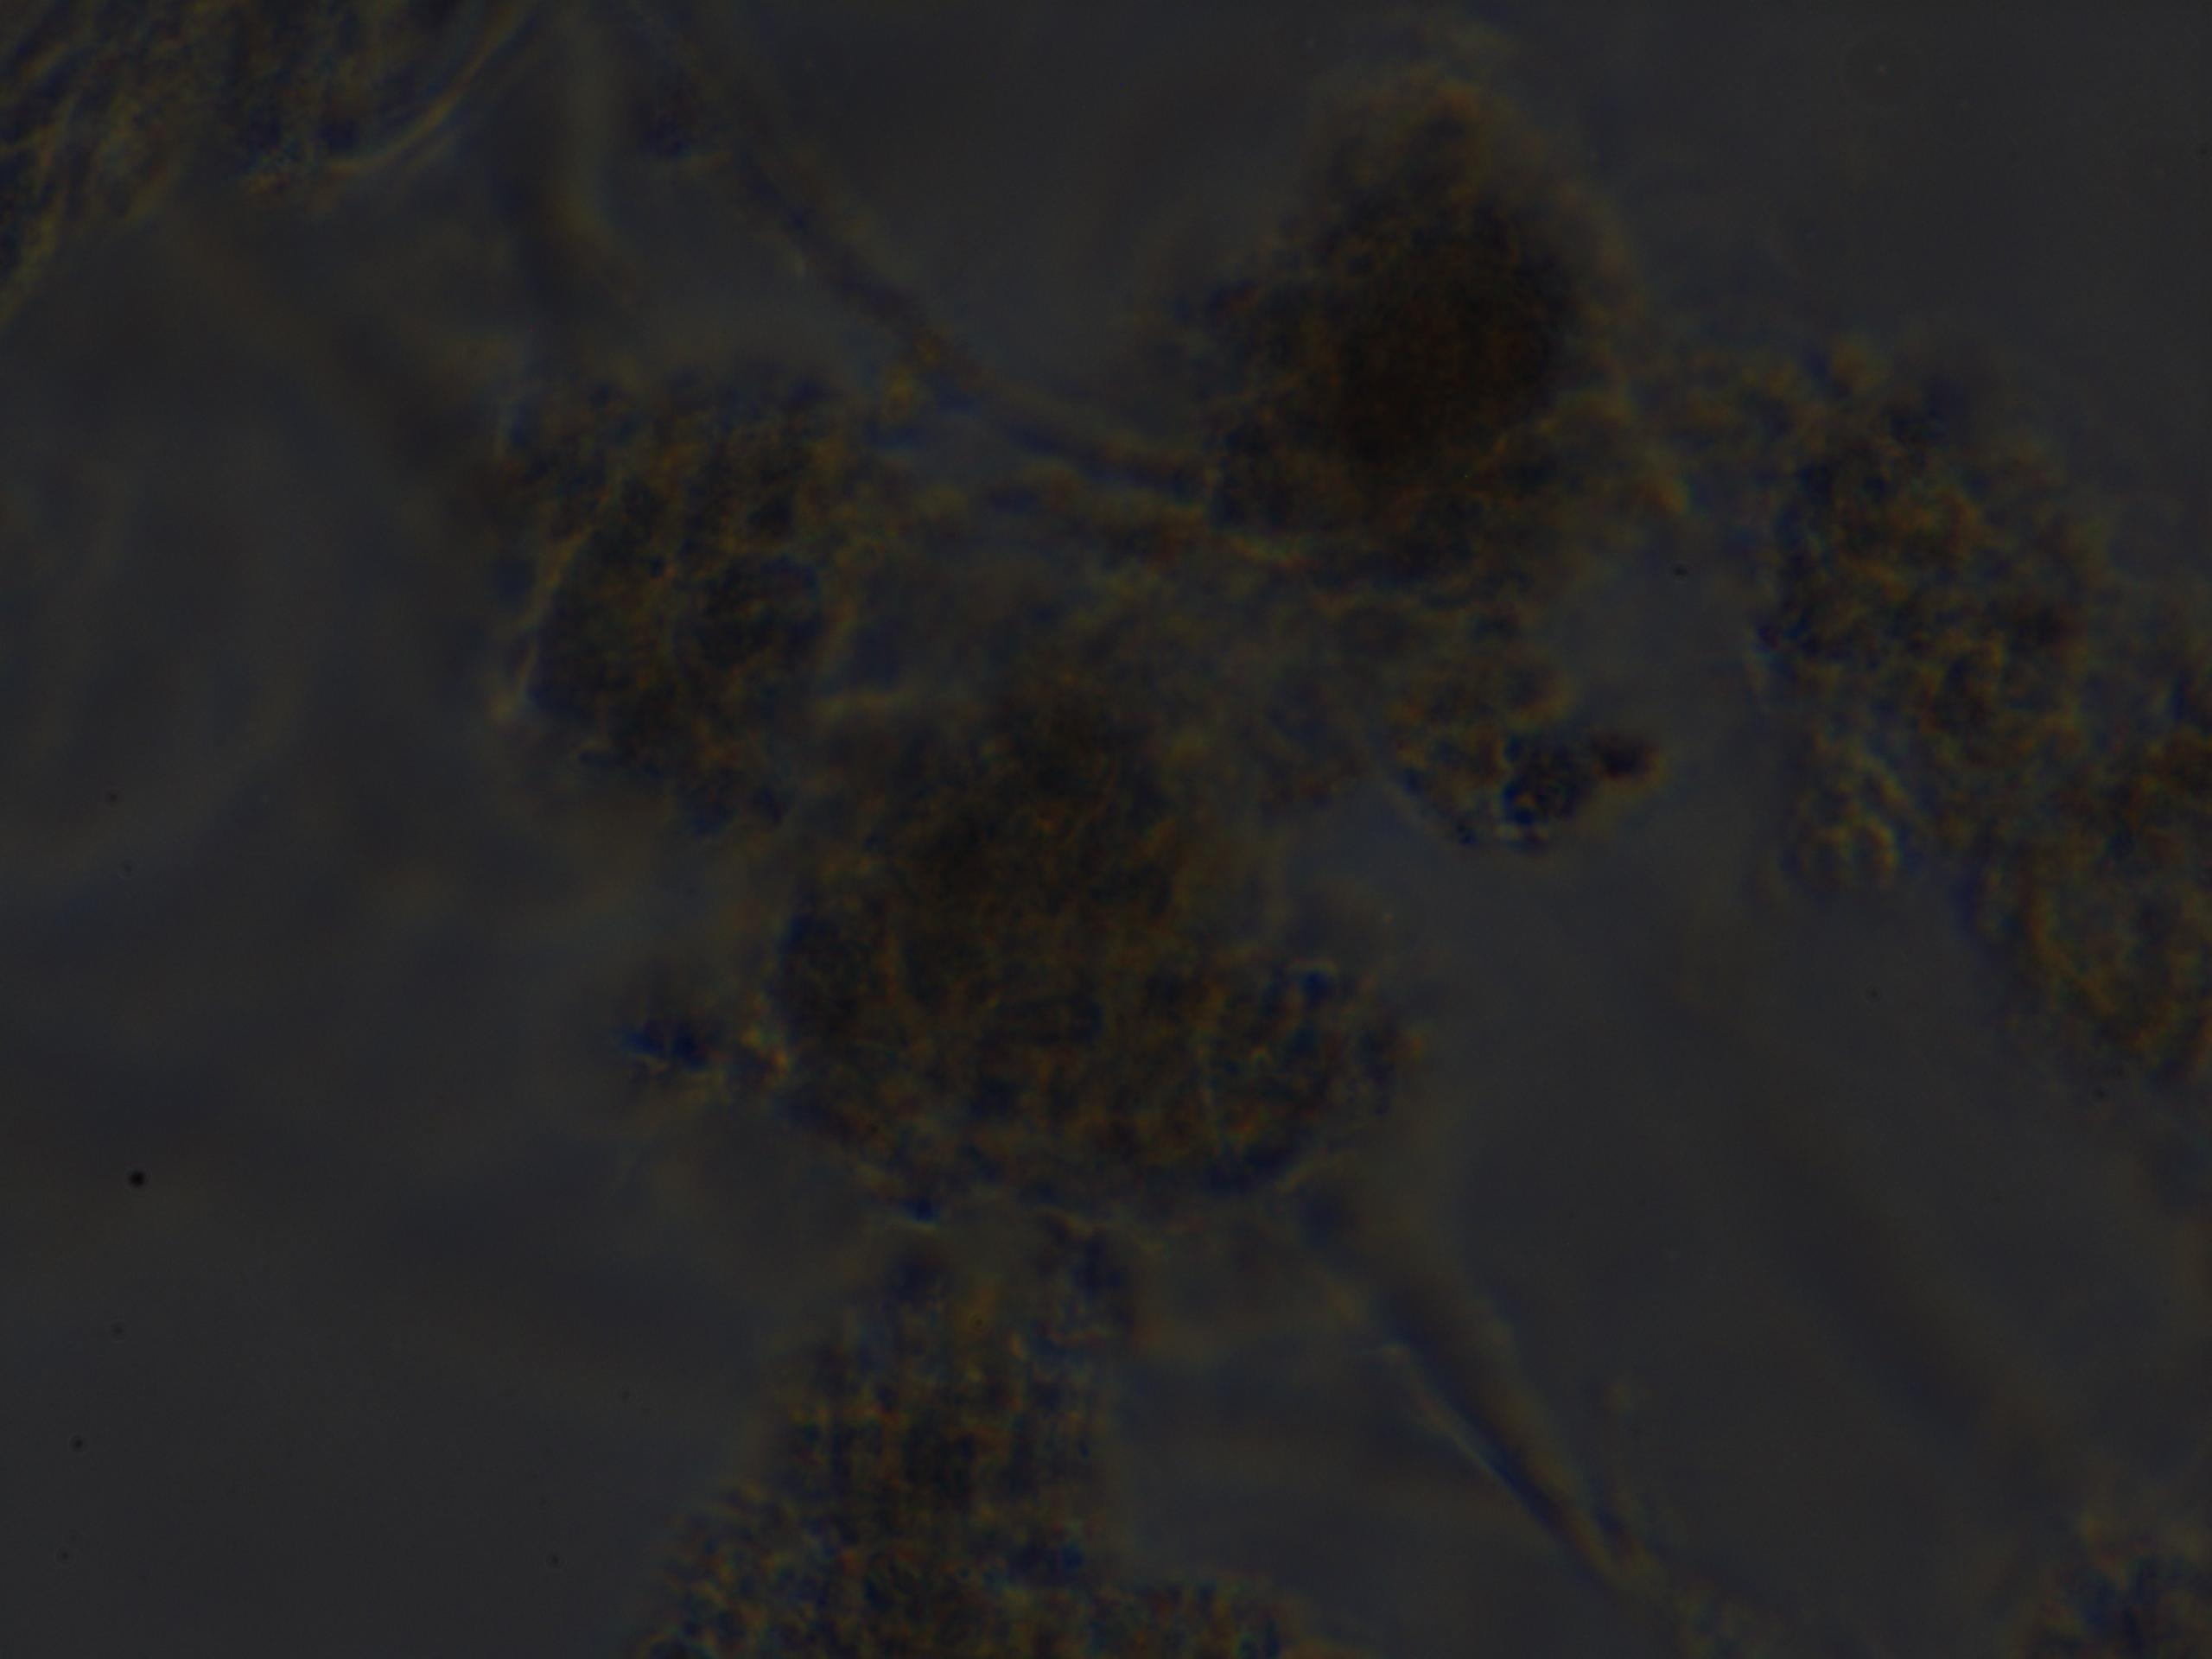filament: (634, 26, 1191, 504)
